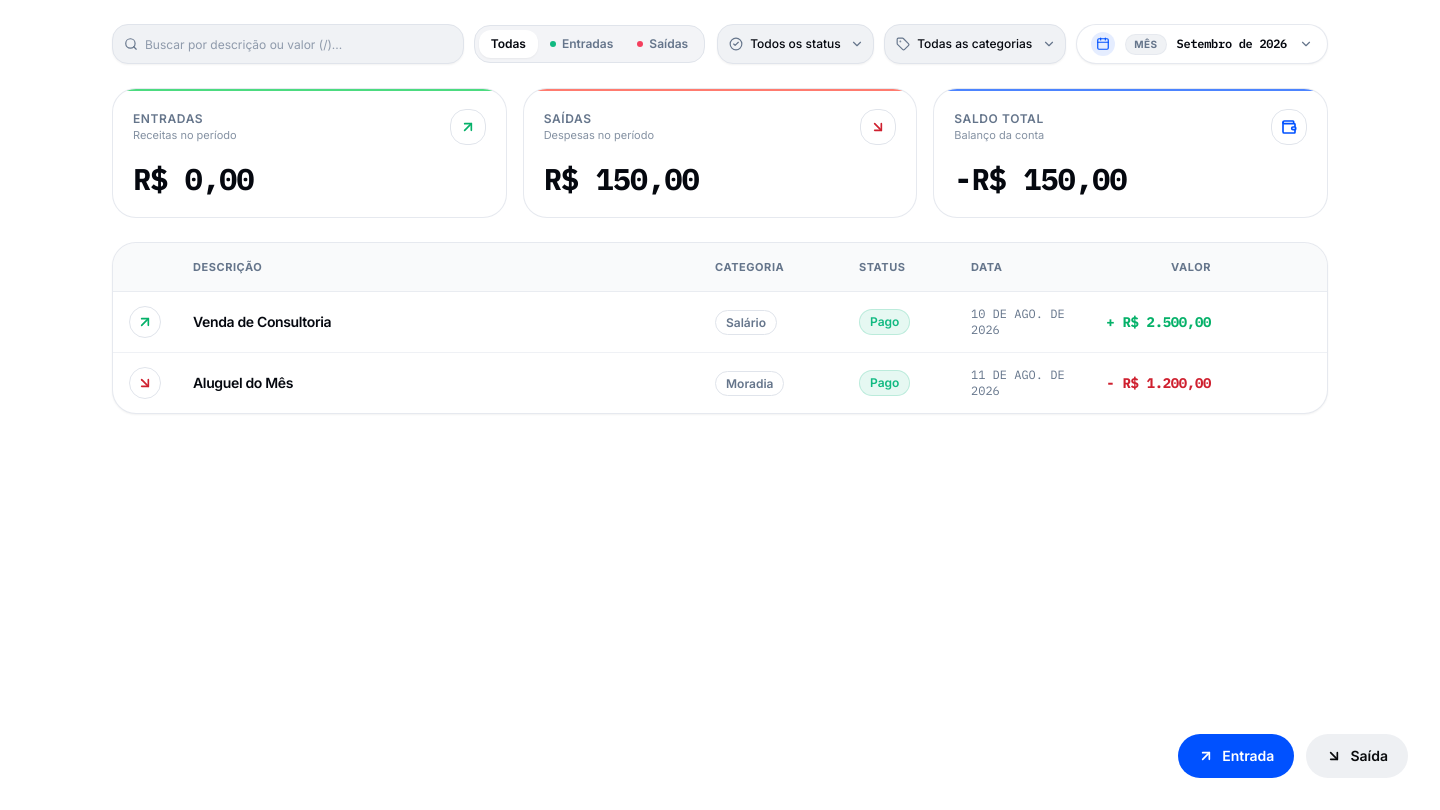
Extrato.jsx category and status filter › deve filtrar transações pelo seletor de tipo (Entradas / Saídas)
This screenshot has width=1440, height=810.
Expected: the text "Venda de Consultoria" is shown, [193,312,331,332]
Expected: the text "Aluguel do Mês" is shown, [193,372,293,392]
Note: Clicar em Entradas
Click the button "Entradas". click: (582,44)
box: [538,30,625,58]
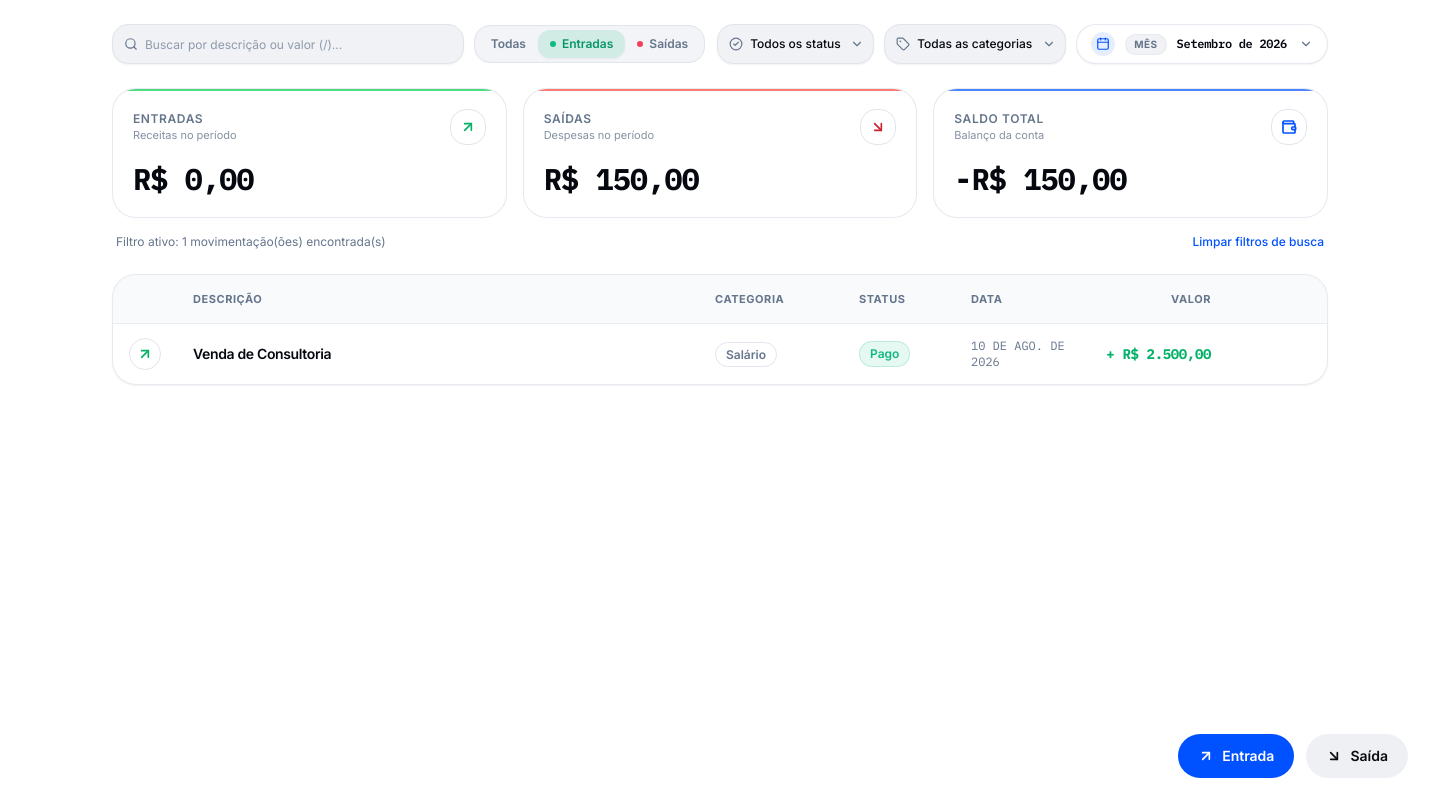
Expected: the text "Venda de Consultoria" is shown, [193,344,331,364]
Result: the text "Aluguel do Mês" is gone
Note: Clicar em Saídas
Click the button "Saídas". click: (663,44)
box: [625,30,700,58]
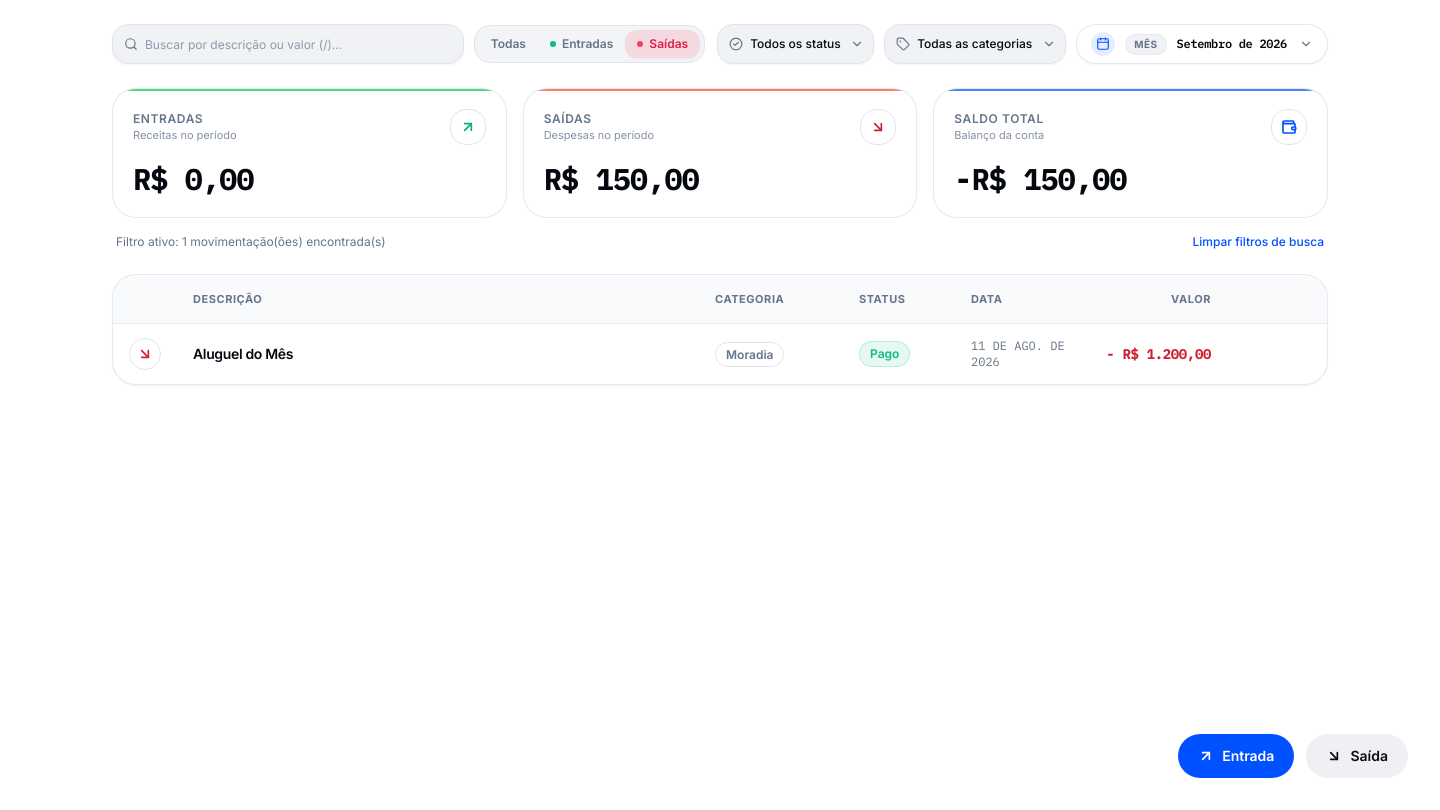
Result: the text "Venda de Consultoria" is gone
Result: the text "Aluguel do Mês" is shown at [193,344,293,364]
